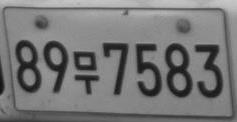3: (194, 43, 224, 98)
5: (135, 42, 162, 97)
7: (102, 41, 130, 95)
8: (163, 42, 193, 97), (14, 39, 41, 93)
9: (42, 39, 68, 93)
무: (72, 50, 100, 95)
